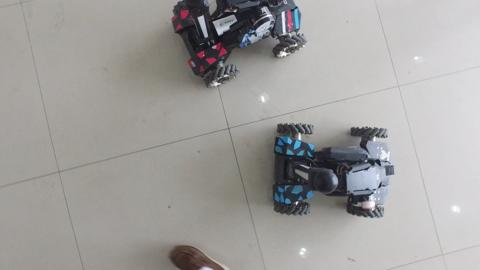chariot: (262, 120, 398, 221), (164, 1, 311, 92)
